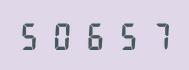five: (18, 20, 47, 50), (108, 20, 137, 50)
seven: (138, 20, 167, 50)
six: (78, 20, 107, 50)
zero: (48, 20, 77, 50)
